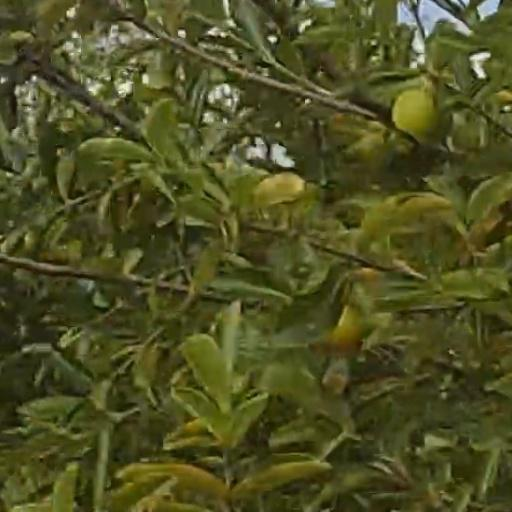acerola_verde: (398, 95, 450, 142)
acerola_vermelha: (318, 310, 361, 354)
